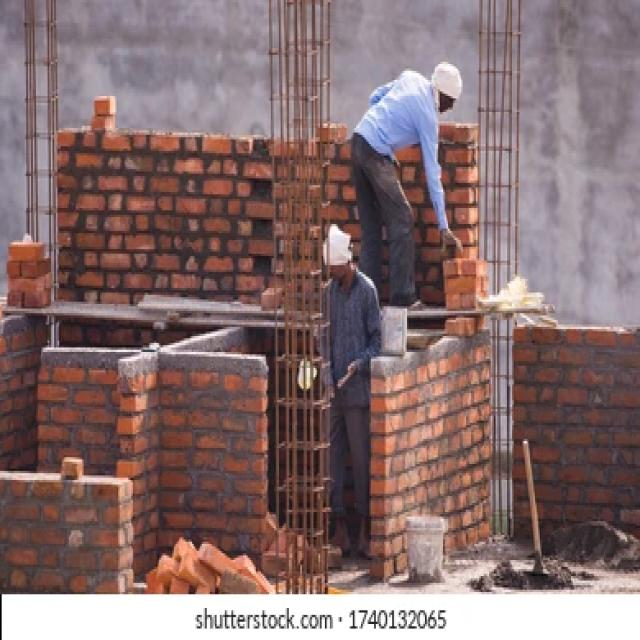Masonary: (41, 70, 512, 569)
